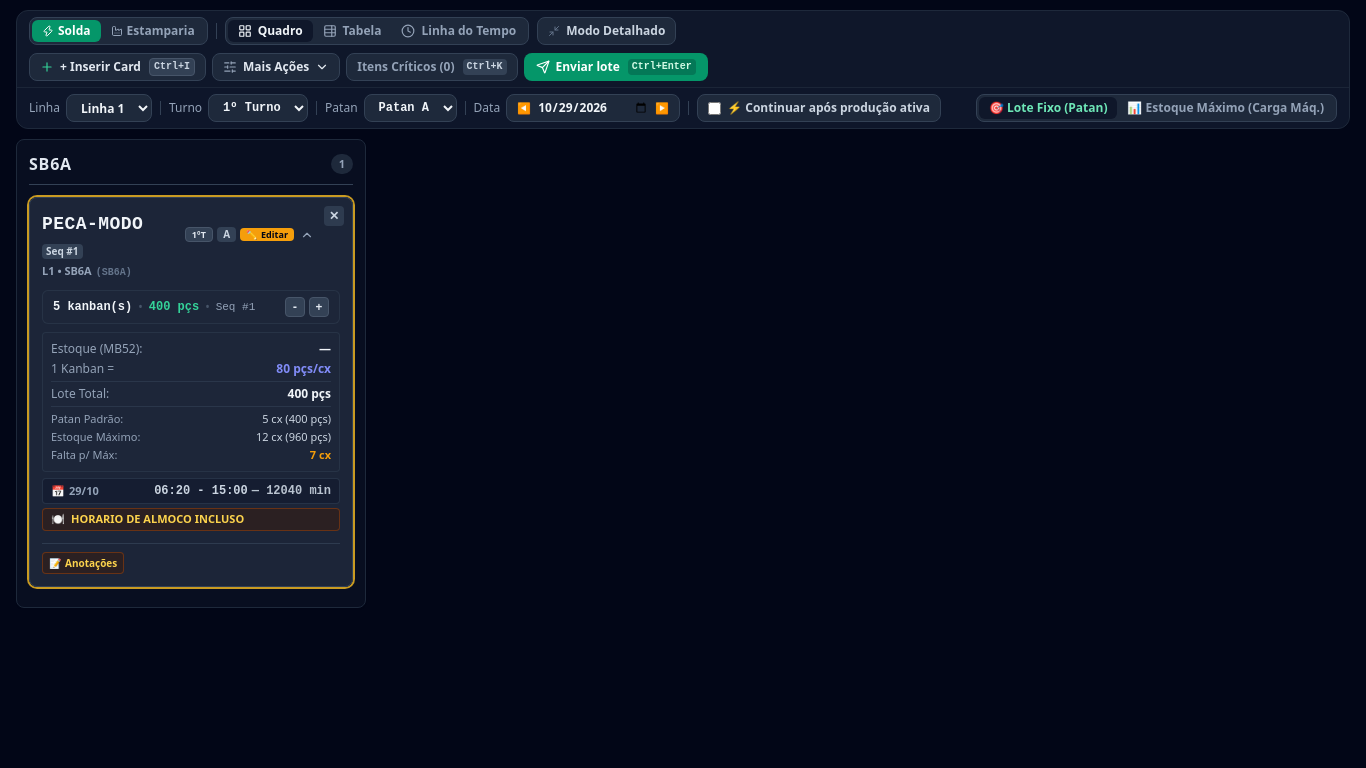
ProgramacaoPatan › switches between 'Lote Fixo (Patan)' and 'Estoque Máximo (Carga Máq.)' dimensioning modes
expect the text "PECA-MODO" is shown: met, box [42, 214, 143, 234]
expect the button "🎯 Lote Fixo (Patan)" is shown: met, box [979, 97, 1118, 119]
# Alterna para Estoque Máximo
Step 1. Click the button "📊 Estoque Máximo (Carga Máq.)" → point(1226, 108), box [1118, 97, 1334, 119]
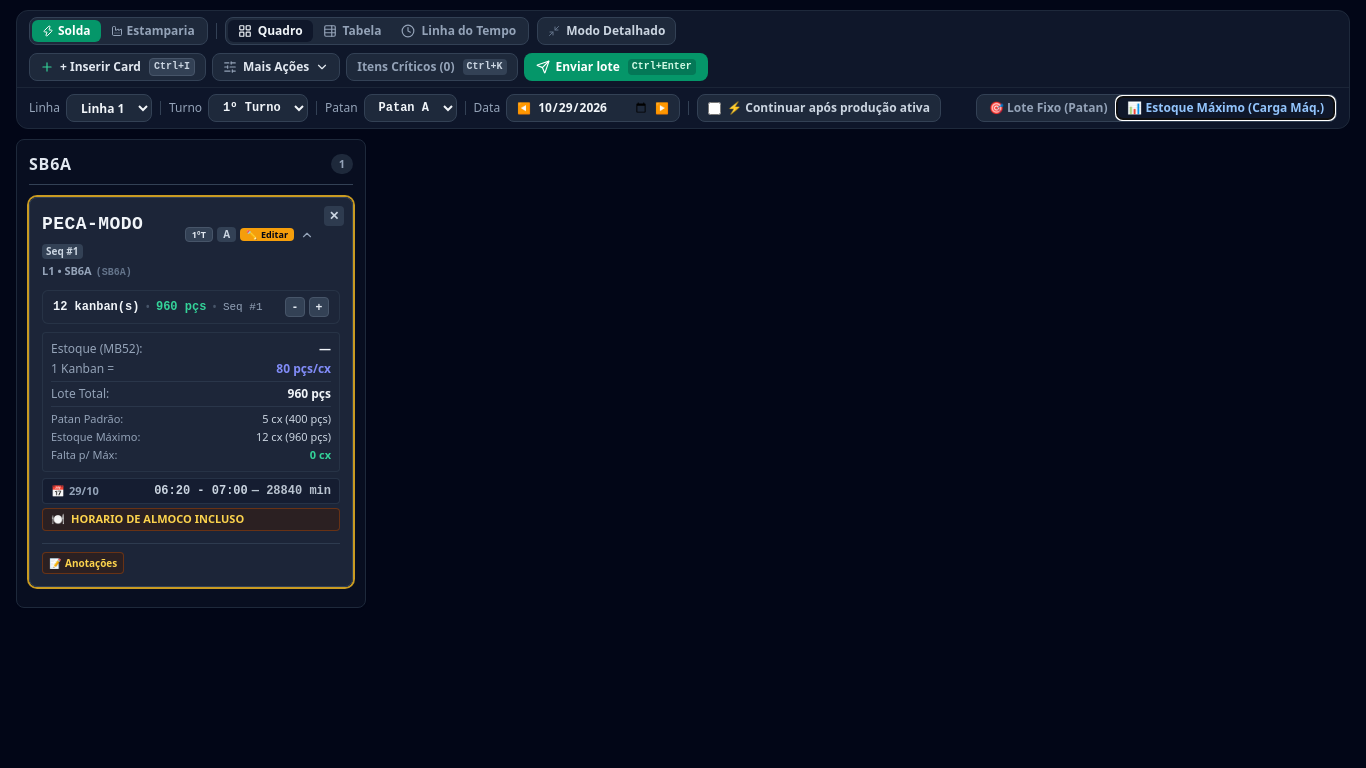
expect the text "12 kanban(s)" is shown: met, box [53, 299, 139, 315]
# Volta para Lote Fixo
Step 2. Click the button "🎯 Lote Fixo (Patan)" → point(1048, 108), box [979, 97, 1118, 119]
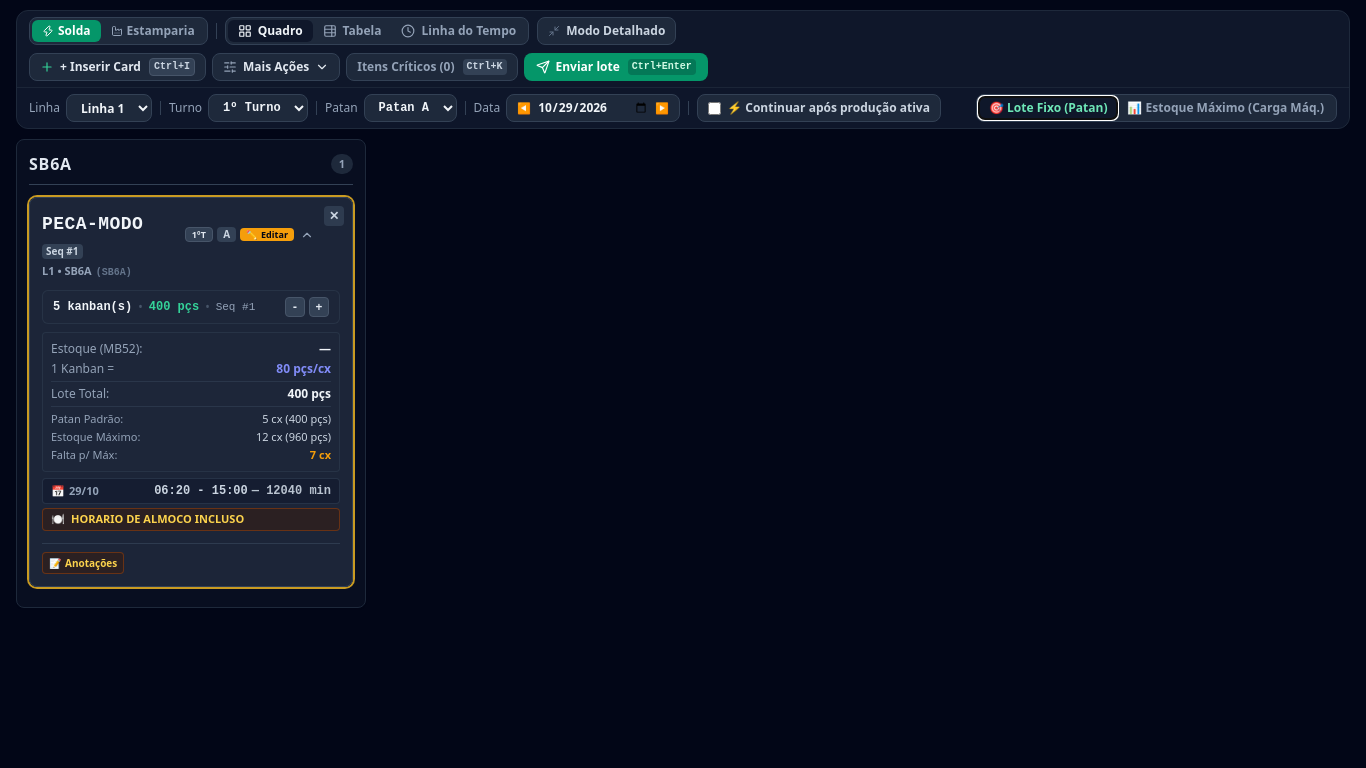
expect the text "5 kanban(s)" is shown: met, box [53, 299, 132, 315]
